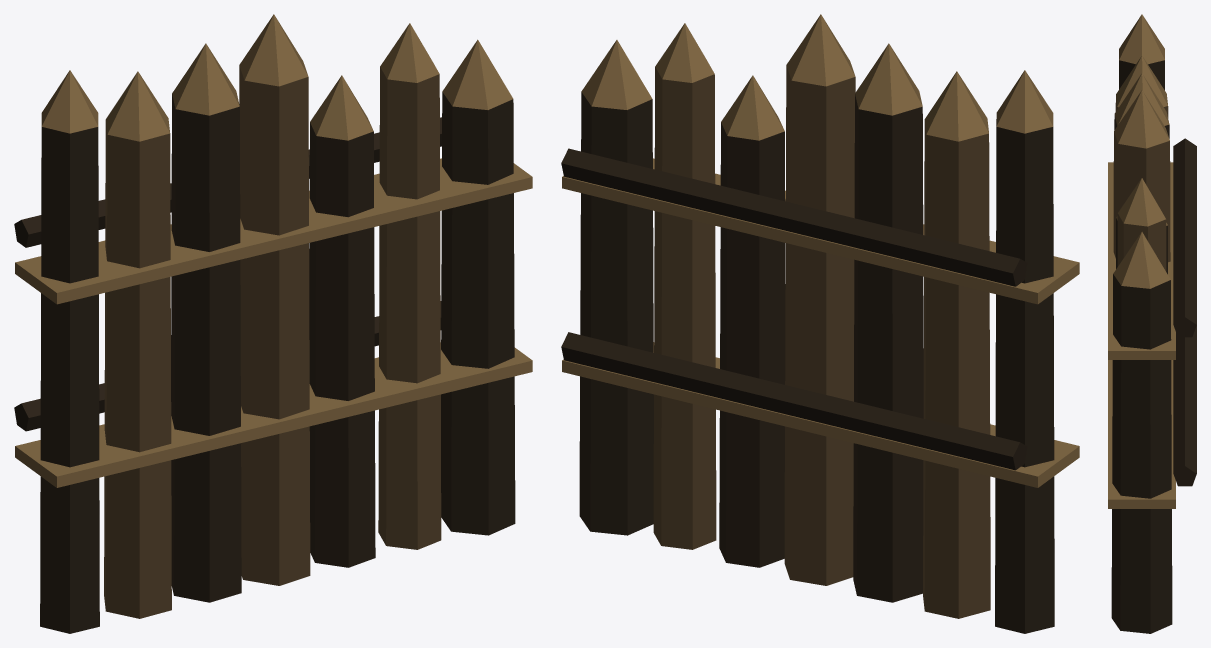
Rendered from hushwood_palisade.glb.
3 renders of one model, left to right at view 1: azimuth 30°, elevation 25°; view 2: azimuth 150°, elevation 25°; view 3: azimuth 270°, elevation 25°, orthographic. The views are drawn at different scales.
Visible parts, largest first — view 1: hushwood_palisade; view 2: hushwood_palisade; view 3: hushwood_palisade.
Part boxes in pixels (x1,y1,x2,y2): hushwood_palisade: (14,14,532,633); hushwood_palisade: (561,14,1079,633); hushwood_palisade: (1108,14,1196,633).
Size of the model in its own units: 2.17 by 2.42 by 0.4321.
